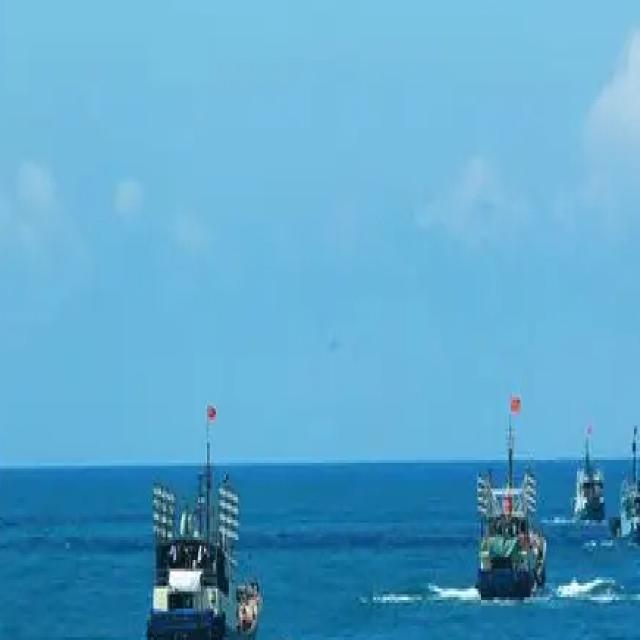fishing boat: (148, 394, 260, 640), (474, 391, 548, 600), (572, 415, 607, 519), (613, 423, 640, 546)
